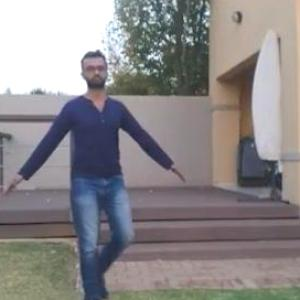land: (17, 72, 166, 299)
